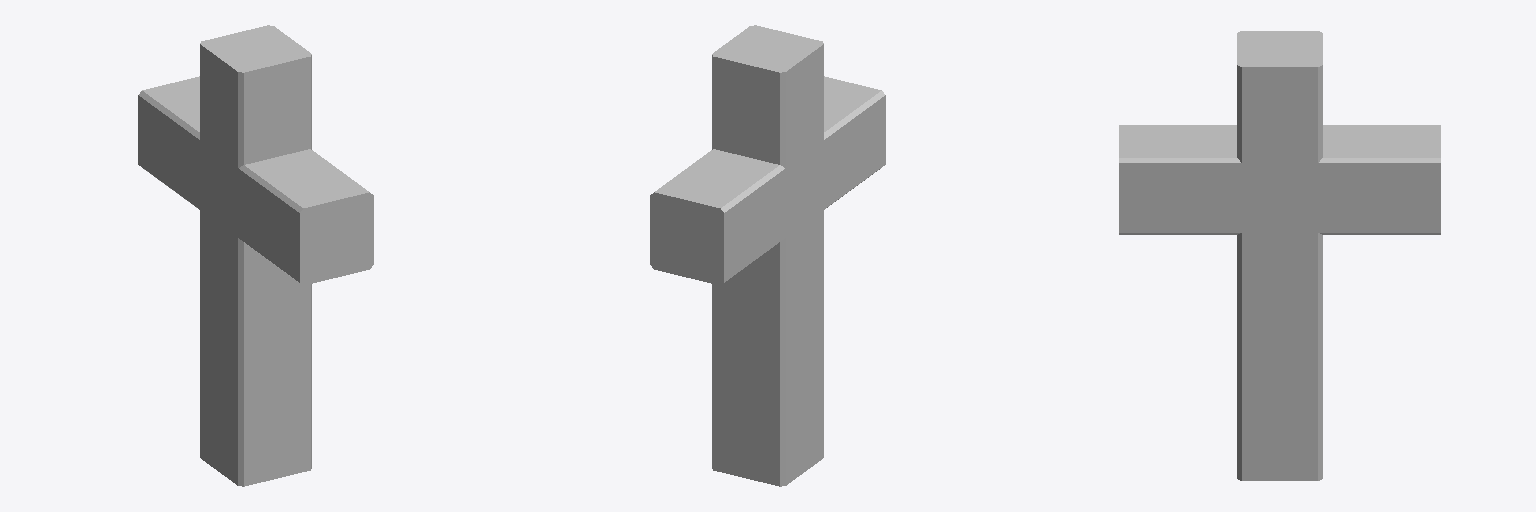
The model's file is Figura Religiosa Pequena.obj.
3 renders of one model, left to right at view 1: azimuth 30°, elevation 25°; view 2: azimuth 150°, elevation 25°; view 3: azimuth 270°, elevation 25°, orthographic.
Visible parts, largest first — view 1: Figura_Religiosa_PEQUENA_MESH; view 2: Figura_Religiosa_PEQUENA_MESH; view 3: Figura_Religiosa_PEQUENA_MESH.
Part boxes in pixels (left/top/right/bottom): Figura_Religiosa_PEQUENA_MESH: left=138, top=25, right=373, bottom=486; Figura_Religiosa_PEQUENA_MESH: left=650, top=25, right=885, bottom=486; Figura_Religiosa_PEQUENA_MESH: left=1119, top=31, right=1440, bottom=480.
Size of the model in its own units: 0.0476 by 0.2551 by 0.1801.